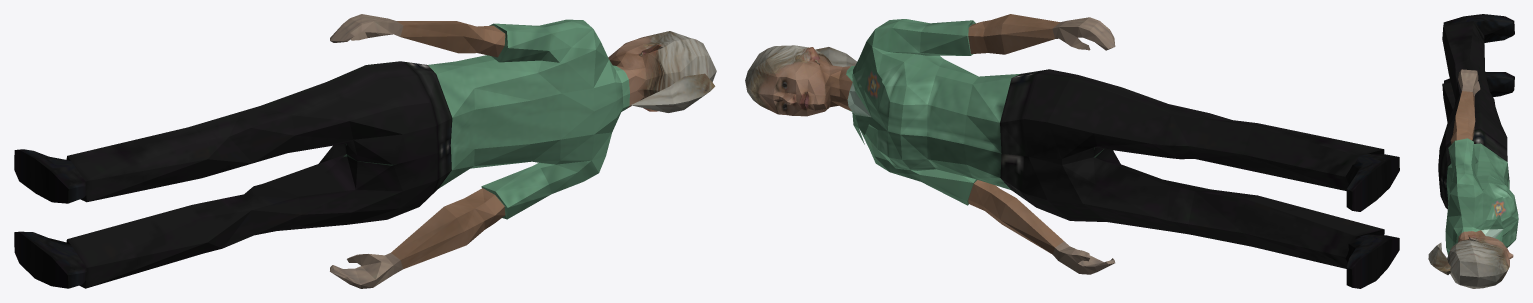
The model's file is wfyclem.obj.
3 renders of one model, left to right at view 1: azimuth 30°, elevation 25°; view 2: azimuth 150°, elevation 25°; view 3: azimuth 270°, elevation 25°, orthographic. The views are drawn at different scales.
Parts seen in each view (by area): view 1: noname_0; view 2: noname_0; view 3: noname_0.
Part boxes in pixels (left/top/right/bottom): noname_0: left=14, top=14, right=716, bottom=288; noname_0: left=745, top=14, right=1399, bottom=288; noname_0: left=1428, top=14, right=1518, bottom=288.
Size of the model in its own units: 1.81 by 0.6857 by 0.3109.
1 material, 1 textured.
